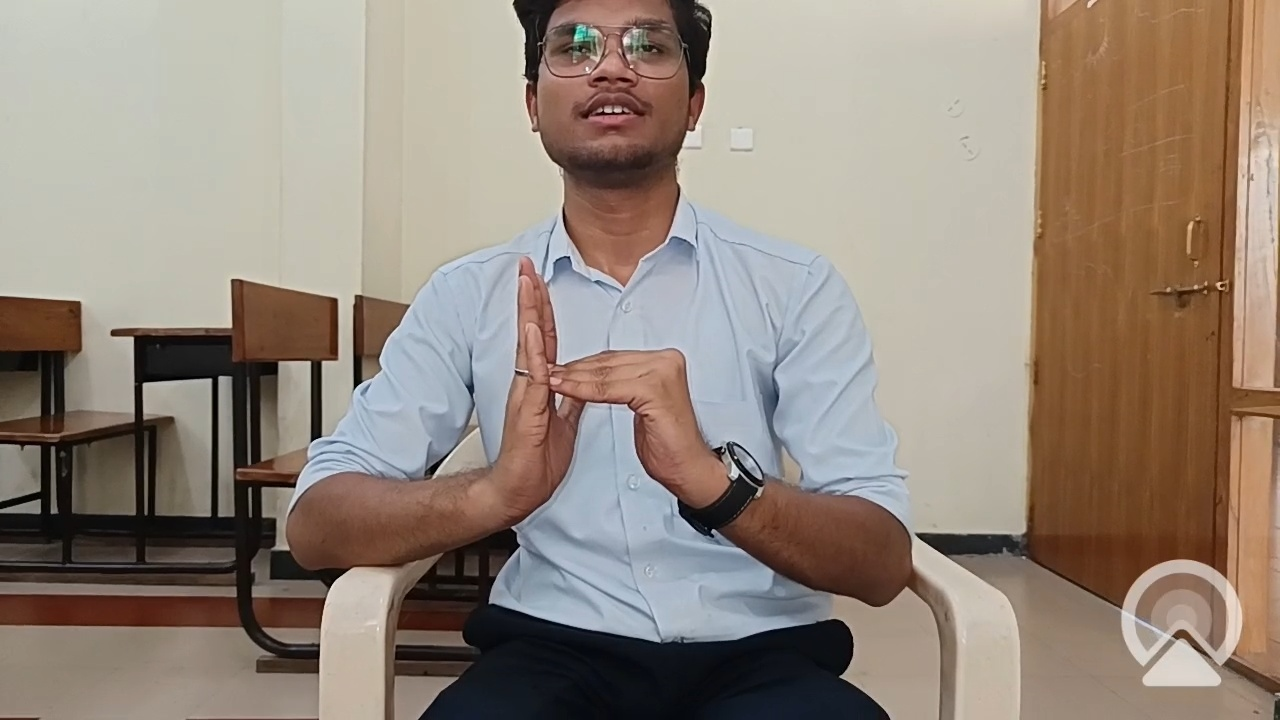Z: (452, 236, 752, 571)
